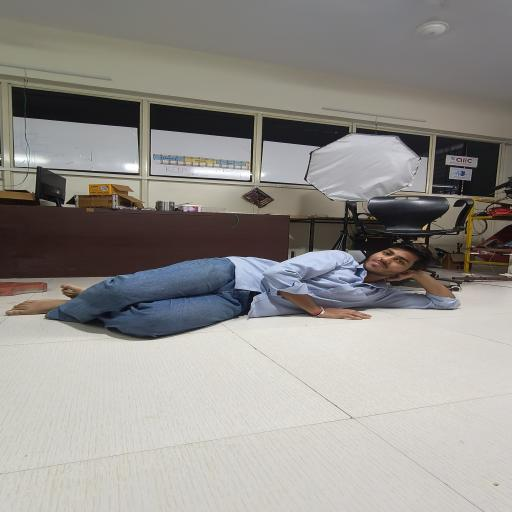survivor: (5, 242, 462, 338)
